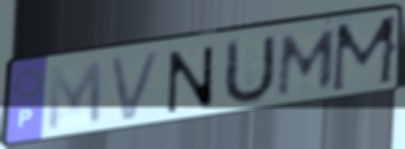M: (328, 12, 403, 97), (274, 26, 341, 100), (45, 58, 105, 135)
N: (165, 44, 217, 117)
U: (219, 31, 278, 109)
V: (106, 47, 166, 126)
